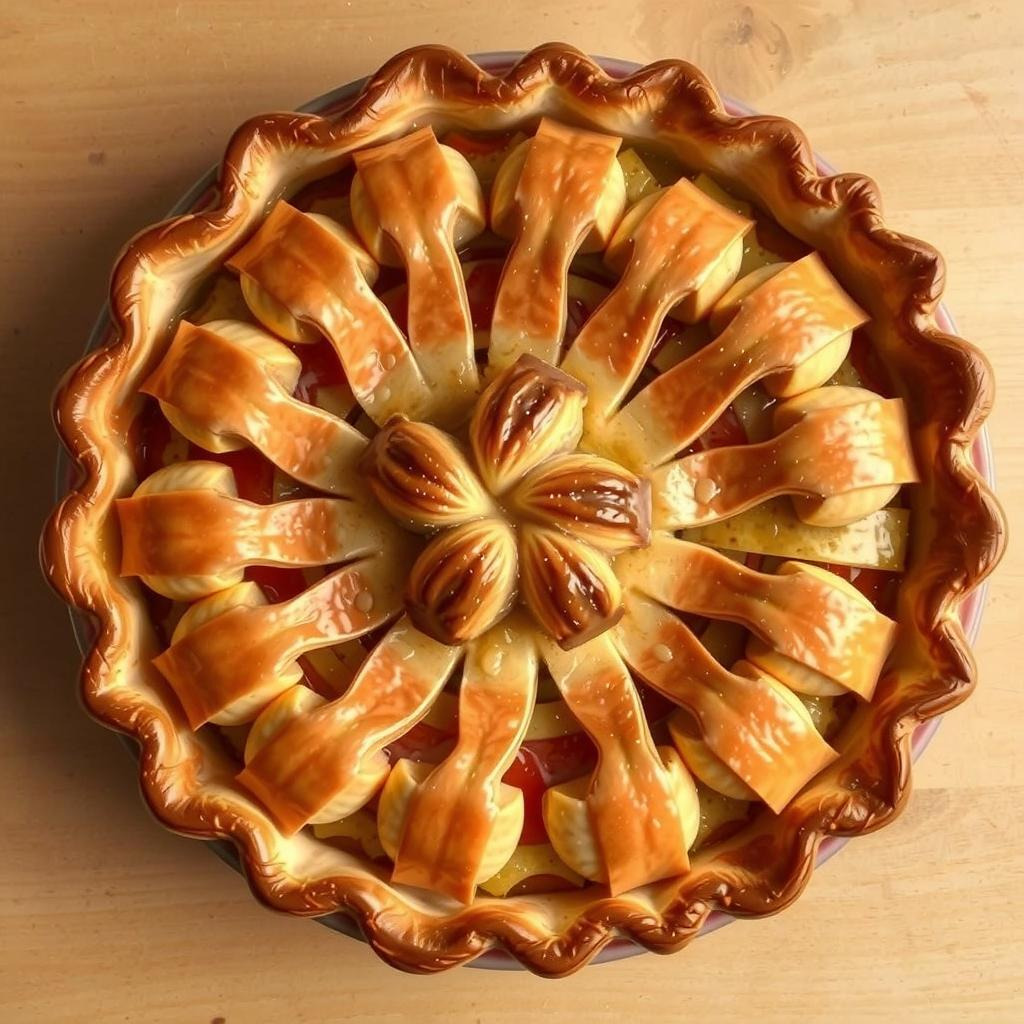pie: (41, 43, 1004, 993)
